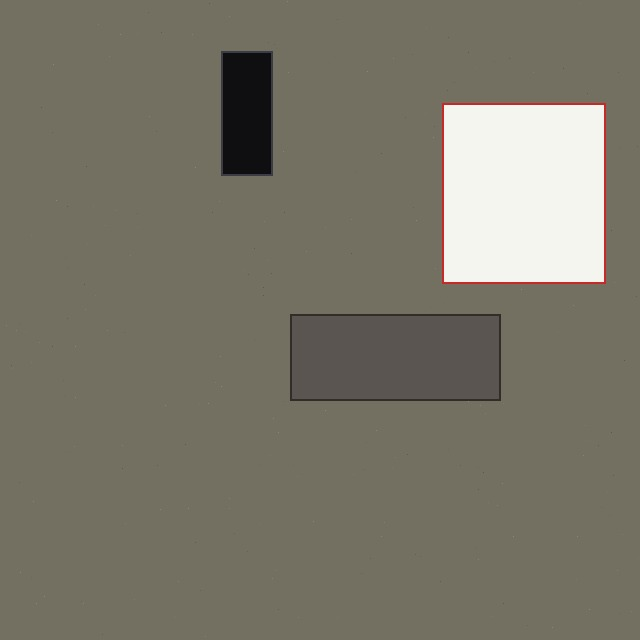book: (442, 103, 605, 283)
concrete_damage: (290, 314, 500, 400)
phone: (221, 51, 323, 175)
